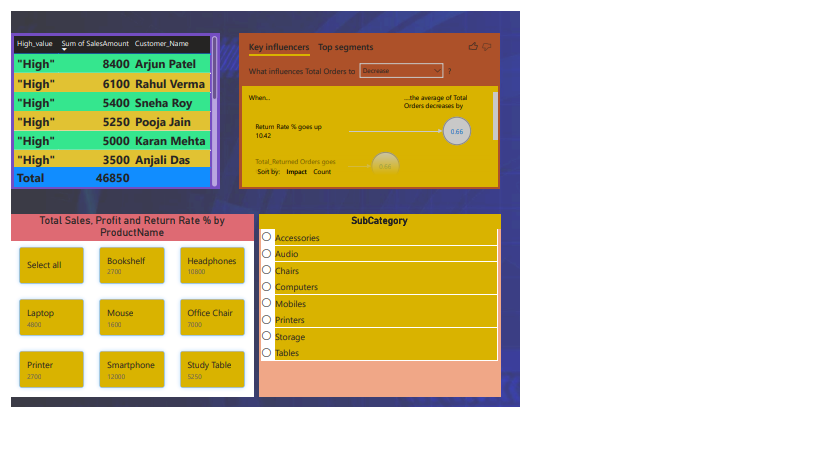

The dashboard page shown, as its layout file describes it:
{"tool":"powerbi","page":{"name":"Page 1","canvas":[1280,720],"ordinal":0},"visuals":[{"type":"tableEx","fields":{"Values":["Order_table.High_value","Sum(Order_table.SalesAmount)","Customer_Table.Customer_Name"]},"box":[0,41.4,380,282.9],"z":3000},{"type":"keyDriversVisual","fields":{"Target":["Order_table.Total Orders"],"ExplainBy":["Return_table.Total_Returned Orders","Return_table.Return Rate %","CountNonNull(Order_table.Quantity)","Product_Table.Category"]},"box":[415.7,41.4,475.7,282.9],"z":4000},{"type":"advancedSlicerVisual","fields":{"Label":["Order_table.Total Sales"],"Values":["Product_Table.ProductName"]},"box":[0,370,441.4,332.9],"z":4001},{"type":"listSlicer","fields":{"Values":["Product_Table.SubCategory"]},"box":[451.4,370,440,332.9],"z":4002}]}

Visuals, with their boxes in screenshot pixels (x1, y1, x2, y2), scaled from the page's 1280x720 canvas onto the 819x460 screenshot:
tableEx - Order_table.High_value x Sum(Order_table.SalesAmount): {"x1": 0, "y1": 26, "x2": 243, "y2": 207}
keyDriversVisual - Order_table.Total Orders x Return_table.Total_Returned Orders: {"x1": 266, "y1": 26, "x2": 570, "y2": 207}
advancedSlicerVisual - Order_table.Total Sales x Product_Table.ProductName: {"x1": 0, "y1": 236, "x2": 282, "y2": 449}
listSlicer - Product_Table.SubCategory: {"x1": 289, "y1": 236, "x2": 570, "y2": 449}
